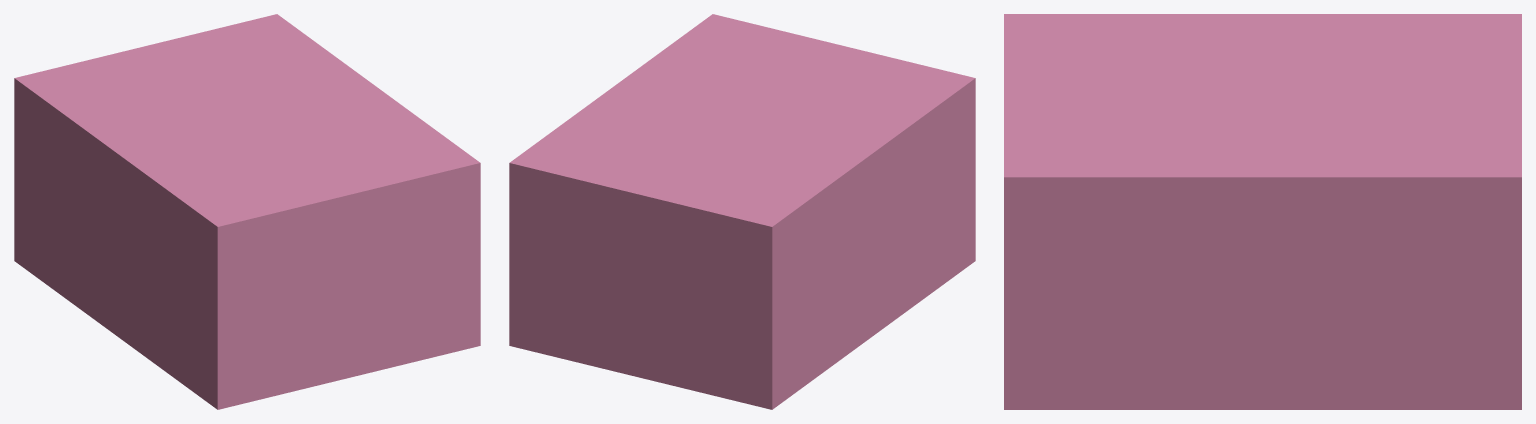
File: utah_rock_small_d.dae
3 renders of one model, left to right at view 1: azimuth 30°, elevation 25°; view 2: azimuth 150°, elevation 25°; view 3: azimuth 270°, elevation 25°, orthographic. The views are drawn at different scales.
Visible parts, largest first — view 1: Untitled; view 2: Untitled; view 3: Untitled.
Boxes of the visible parts, bbox=[...] form: Untitled: bbox=[14, 14, 480, 409]; Untitled: bbox=[509, 14, 975, 409]; Untitled: bbox=[1004, 14, 1521, 409].
Bounding box in the file's own units: 0.9163 × 1.23 × 0.6096.
